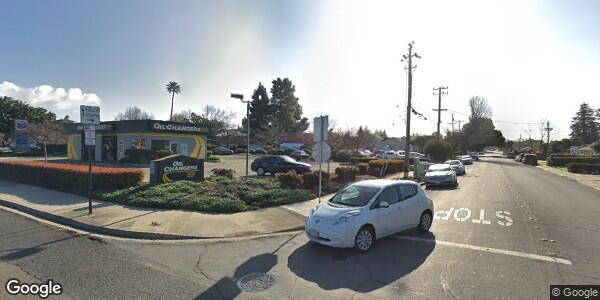Wood_Pole: (398, 39, 422, 177), (429, 83, 451, 141)
